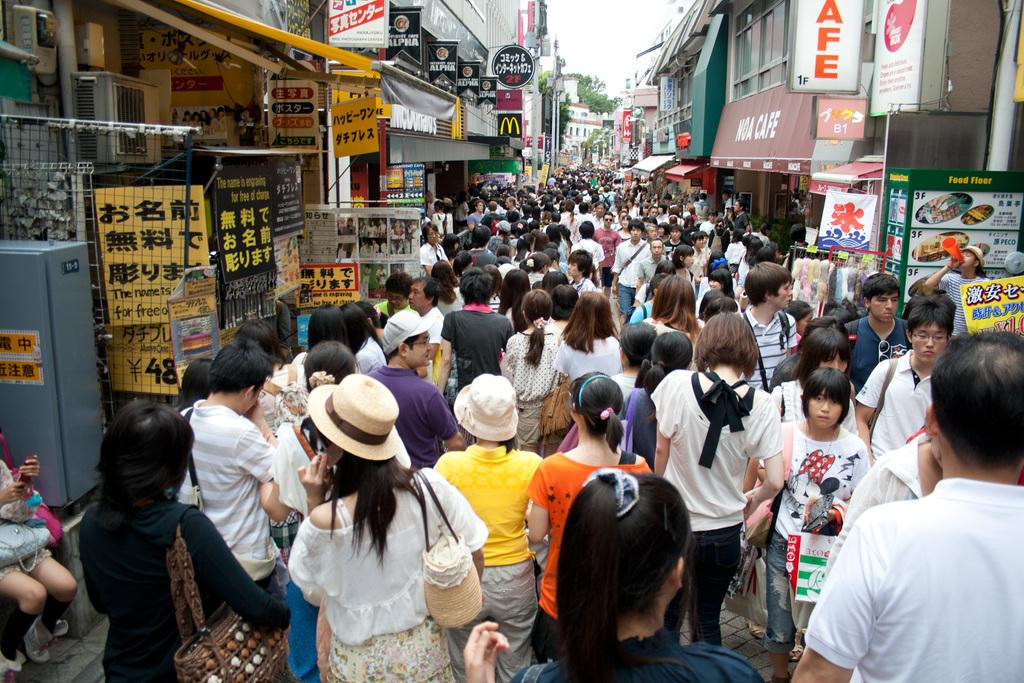Hat: (305, 372, 400, 458), (450, 372, 518, 441), (378, 308, 436, 356), (960, 243, 986, 266)
